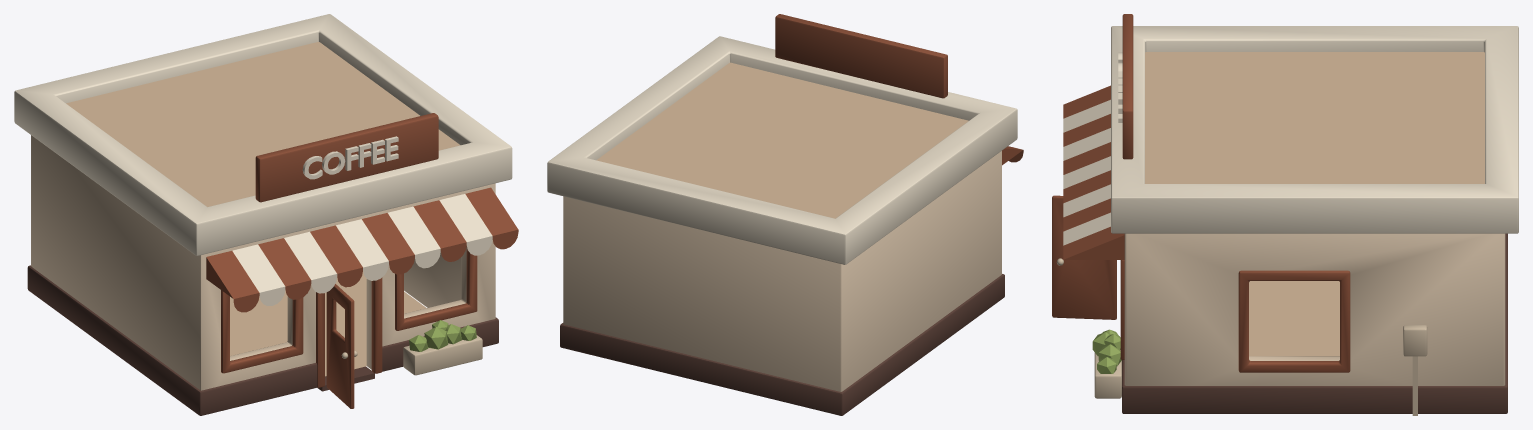
File: Cafe.glb
The picture shows the model from 3 angles, left to right: view 1: azimuth 30°, elevation 25°; view 2: azimuth 150°, elevation 25°; view 3: azimuth 270°, elevation 25°; orthographic projection. The views are drawn at different scales.
Parts seen in each view (by area): view 1: Cafe_Shell, Roof, Floor; view 2: Cafe_Shell, Roof; view 3: Cafe_Shell, Roof, Floor.
Boxes of the visible parts, left/top/right/bottom form: Cafe_Shell: left=14, top=14, right=518, bottom=415; Roof: left=66, top=42, right=460, bottom=206; Floor: left=230, top=271, right=426, bottom=376; Cafe_Shell: left=547, top=14, right=1023, bottom=415; Roof: left=596, top=62, right=968, bottom=218; Cafe_Shell: left=1052, top=14, right=1518, bottom=415; Roof: left=1145, top=52, right=1484, bottom=183; Floor: left=1249, top=281, right=1339, bottom=356.
Bounding box in the file's own units: 6 × 4.5 × 6.87.
